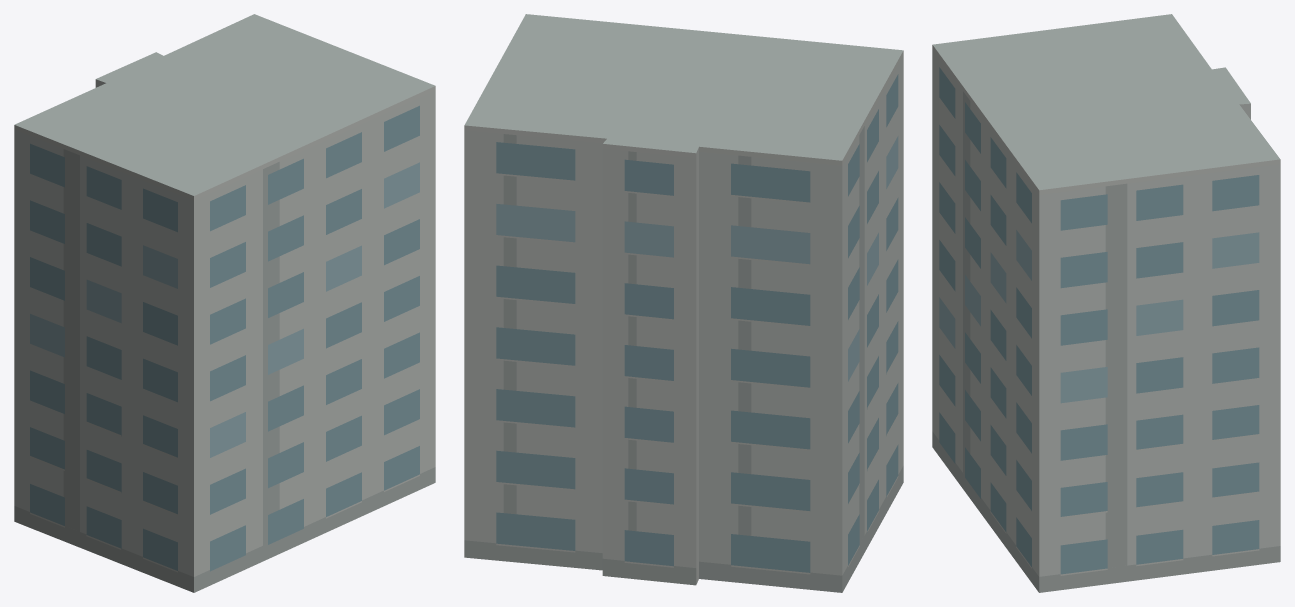
File: survey-upis-33030970.glb
3 renders of one model, left to right at view 1: azimuth 30°, elevation 25°; view 2: azimuth 150°, elevation 25°; view 3: azimuth 270°, elevation 25°, orthographic. The views are drawn at different scales.
Parts seen in each view (by area): view 1: survey-upis-33030970.tmp; view 2: survey-upis-33030970.tmp; view 3: survey-upis-33030970.tmp.
Boxes of the visible parts, x1,y1,x2,y2 form: survey-upis-33030970.tmp: [14, 14, 435, 592]; survey-upis-33030970.tmp: [464, 14, 903, 592]; survey-upis-33030970.tmp: [932, 14, 1280, 592].
Size of the model in its own units: 20.01 by 21.3 by 16.7.
